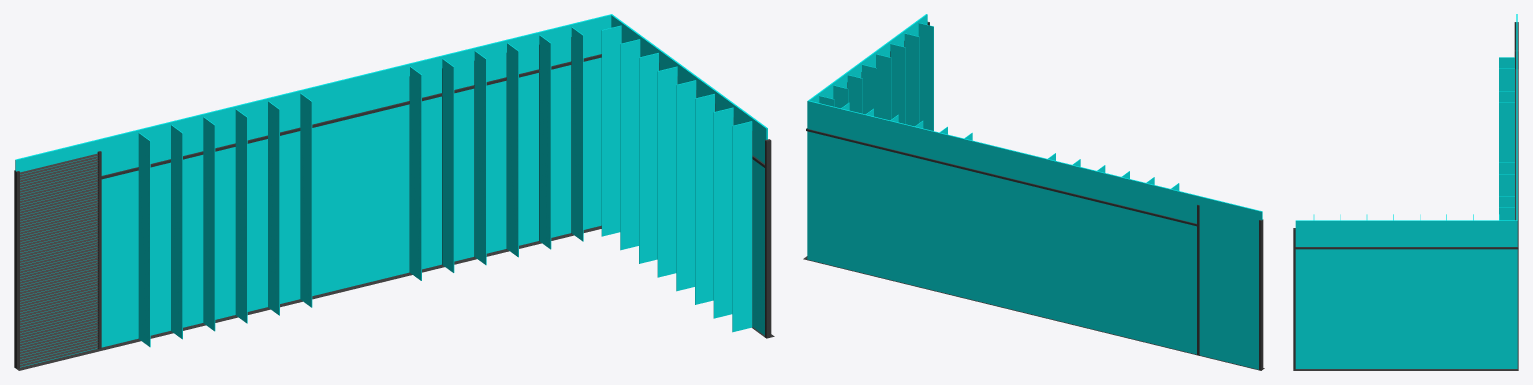
File: Windows.fbx
3 renders of one model, left to right at view 1: azimuth 30°, elevation 25°; view 2: azimuth 150°, elevation 25°; view 3: azimuth 270°, elevation 25°, orthographic. The views are drawn at different scales.
Parts seen in each view (by area): view 1: WindowGlass, Window_Glass, Window_Glass1, Glass_Pane, Window_Frames, WindowGlass1; view 2: WindowGlass, Window_Glass, Window_Frames, WindowGlass1, Window_Glass1; view 3: WindowGlass1, Window_Glass1, Window_Frames, WindowGlass.
Boxes of the visible parts, bbox=[...] form: WindowGlass: bbox=[15, 14, 612, 367]; Window_Glass: bbox=[601, 25, 752, 332]; Window_Glass1: bbox=[138, 27, 583, 347]; Glass_Pane: bbox=[20, 153, 98, 366]; Window_Frames: bbox=[14, 37, 774, 370]; WindowGlass1: bbox=[611, 14, 767, 335]; WindowGlass: bbox=[807, 100, 1262, 369]; Window_Glass: bbox=[819, 23, 933, 130]; Window_Frames: bbox=[803, 22, 1264, 370]; WindowGlass1: bbox=[808, 14, 927, 102]; Window_Glass1: bbox=[841, 102, 1179, 190]; WindowGlass1: bbox=[1295, 220, 1516, 368]; Window_Glass1: bbox=[1499, 57, 1514, 220]; Window_Frames: bbox=[1293, 22, 1518, 370]; WindowGlass: bbox=[1516, 14, 1517, 368].
Size of the model in its own units: 2451 by 811 by 1118.
